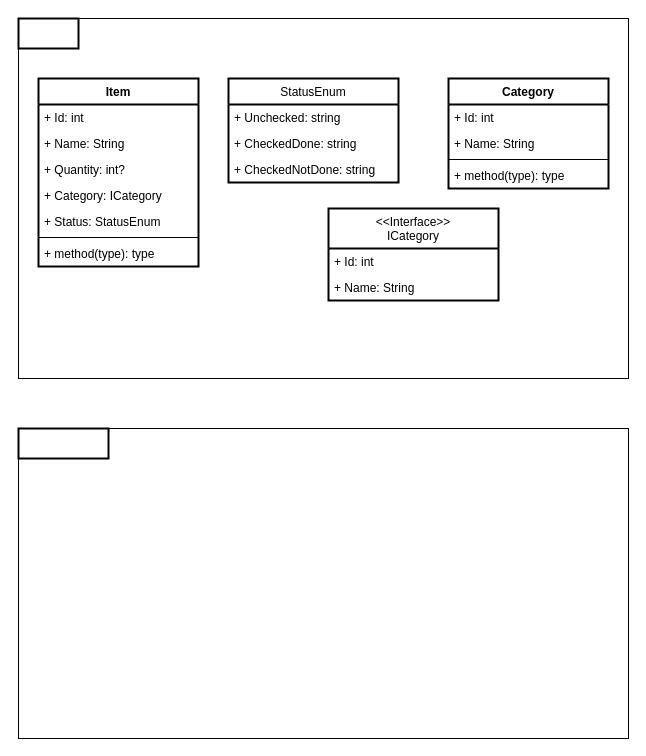
The diagram is 646 pixels wide and 756 high, and some of its shapes have lost their labels. The shapes that lost their labels are listed below. From the top down, each one's centre as x and y in pixels, then its label:
the point at 48,33: Domain
the point at 63,443: Infrastructure
